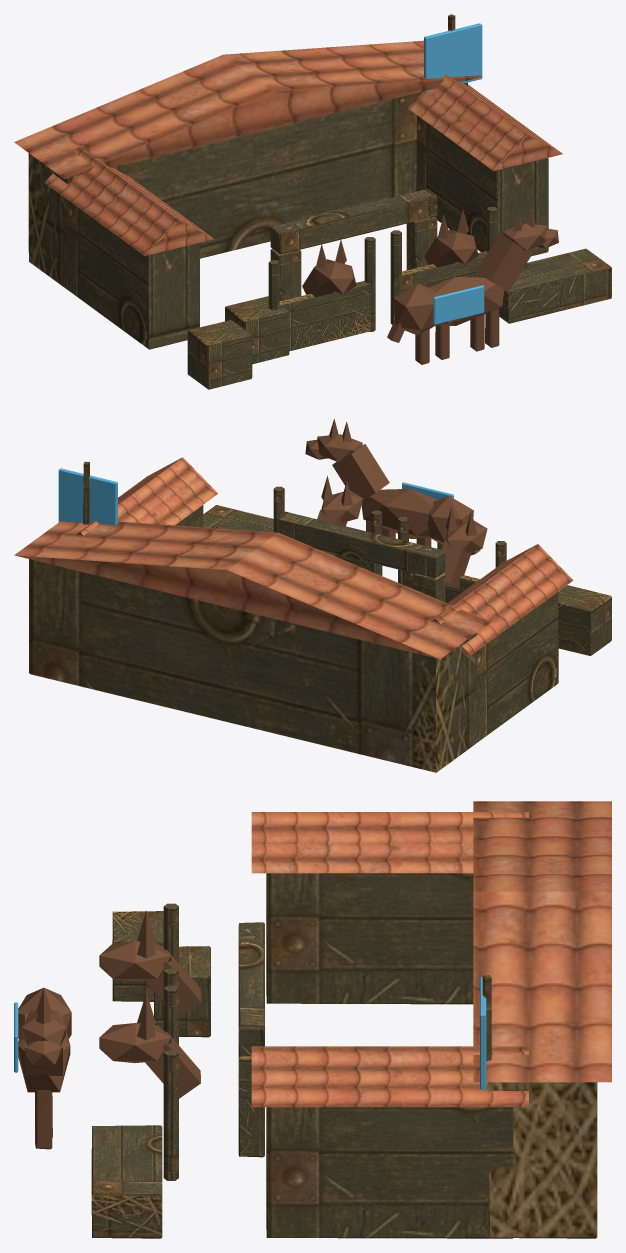
Rendered from edificio-b_017-e1-b-9WjY9I.glb.
The picture shows the model from 3 angles, top to bottom: view 1: azimuth 30°, elevation 25°; view 2: azimuth 150°, elevation 25°; view 3: azimuth 270°, elevation 25°; orthographic projection. The views are drawn at different scales.
Parts seen in each view (by area): view 1: envolvente_establo, caballos_establo, team_color; view 2: envolvente_establo, caballos_establo, team_color; view 3: envolvente_establo, caballos_establo, team_color.
Part boxes in pixels (x1=…): envolvente_establo: x1=14, y1=14, x2=611, y2=389; caballos_establo: x1=302, y1=208, x2=558, y2=364; team_color: x1=424, y1=23, x2=484, y2=324; envolvente_establo: x1=14, y1=457, x2=611, y2=772; caballos_establo: x1=305, y1=418, x2=487, y2=589; team_color: x1=58, y1=468, x2=453, y2=524; envolvente_establo: x1=91, y1=801, x2=611, y2=1238; caballos_establo: x1=18, y1=910, x2=200, y2=1149; team_color: x1=14, y1=977, x2=486, y2=1089.
Bounding box in the file's own units: 48.25 × 20 × 43.16.
Materials: 3 (1 with a texture image).
